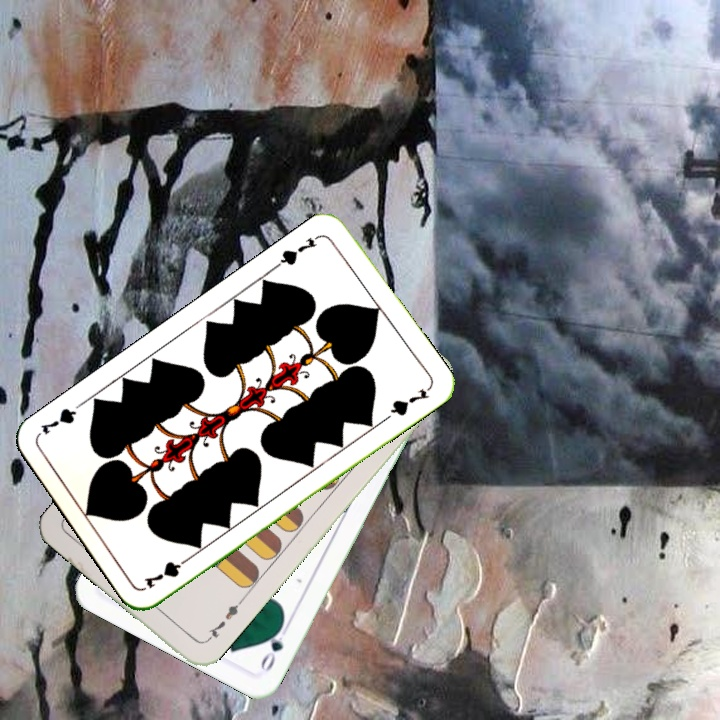E7: (200, 597, 245, 646)
G7: (140, 551, 195, 591), (271, 230, 323, 270)
GO: (256, 618, 292, 674)
